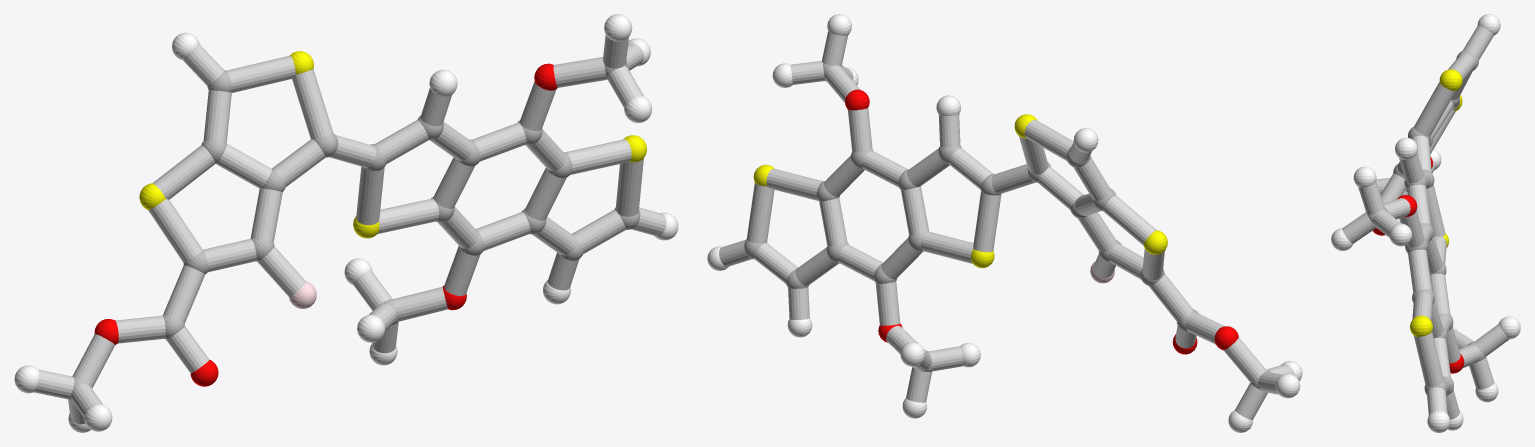
Rendered from color.glb.
The picture shows the model from 3 angles, left to right: view 1: azimuth 30°, elevation 25°; view 2: azimuth 150°, elevation 25°; view 3: azimuth 270°, elevation 25°; orthographic projection. The views are drawn at different scales.
Visible parts, largest first — view 1: grp15205, grp8689, grp1, grp13395, grp7241; view 2: grp15205, grp8689, grp1, grp7241, grp13395; view 3: grp15205, grp8689, grp1, grp7241, grp13395.
Boxes of the visible parts, left/top/right/bottom form: grp15205: left=34, top=34, right=666, bottom=424; grp8689: left=14, top=14, right=678, bottom=432; grp1: left=69, top=61, right=640, bottom=402; grp13395: left=94, top=63, right=557, bottom=386; grp7241: left=139, top=51, right=646, bottom=238; grp15205: left=719, top=31, right=1294, bottom=419; grp8689: left=707, top=14, right=1302, bottom=432; grp1: left=744, top=63, right=1270, bottom=389; grp7241: left=753, top=114, right=1167, bottom=268; grp13395: left=845, top=89, right=1238, bottom=354; grp15205: left=1342, top=25, right=1509, bottom=419; grp8689: left=1331, top=14, right=1520, bottom=432; grp1: left=1367, top=50, right=1485, bottom=395; grp7241: left=1410, top=69, right=1462, bottom=336; grp13395: left=1373, top=157, right=1464, bottom=373.
Size of the model in its own units: 16.37 by 8.86 by 4.94.
